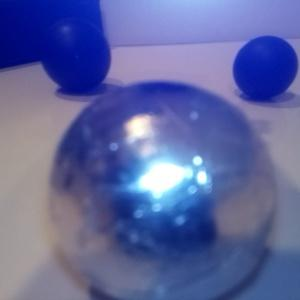alive_ball: (47, 80, 279, 300)
dead_ball: (41, 20, 112, 90), (232, 36, 300, 100)
